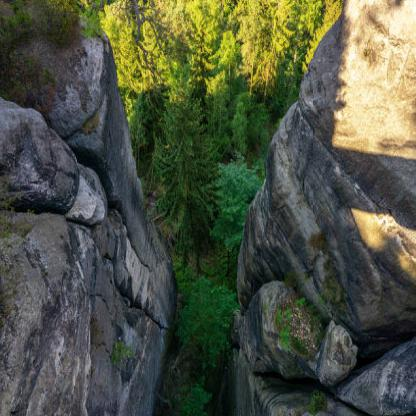Sedimentary_Sandstone: (301, 5, 415, 415), (0, 91, 99, 415), (243, 282, 361, 390), (109, 179, 161, 414)
